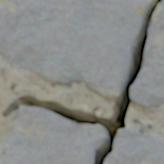broken_brick: (0, 0, 149, 99), (0, 106, 105, 163), (131, 2, 163, 108), (105, 129, 163, 163)
crack: (0, 0, 162, 163), (76, 79, 86, 86)
